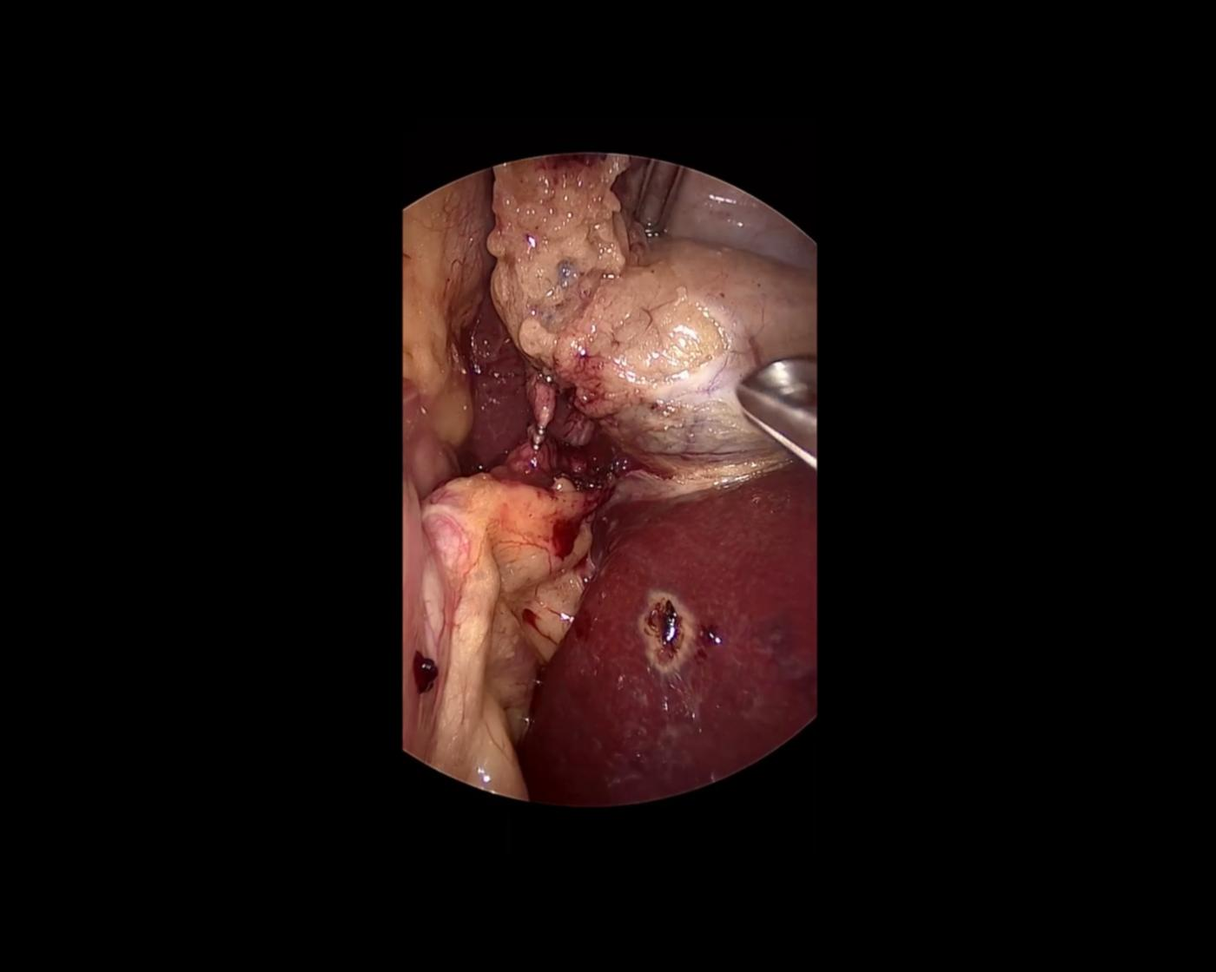Forceps: (730, 354, 816, 481), (621, 159, 690, 248)
Gallbladder: (484, 157, 814, 487)
Liver: (516, 455, 814, 806), (454, 313, 529, 470)
